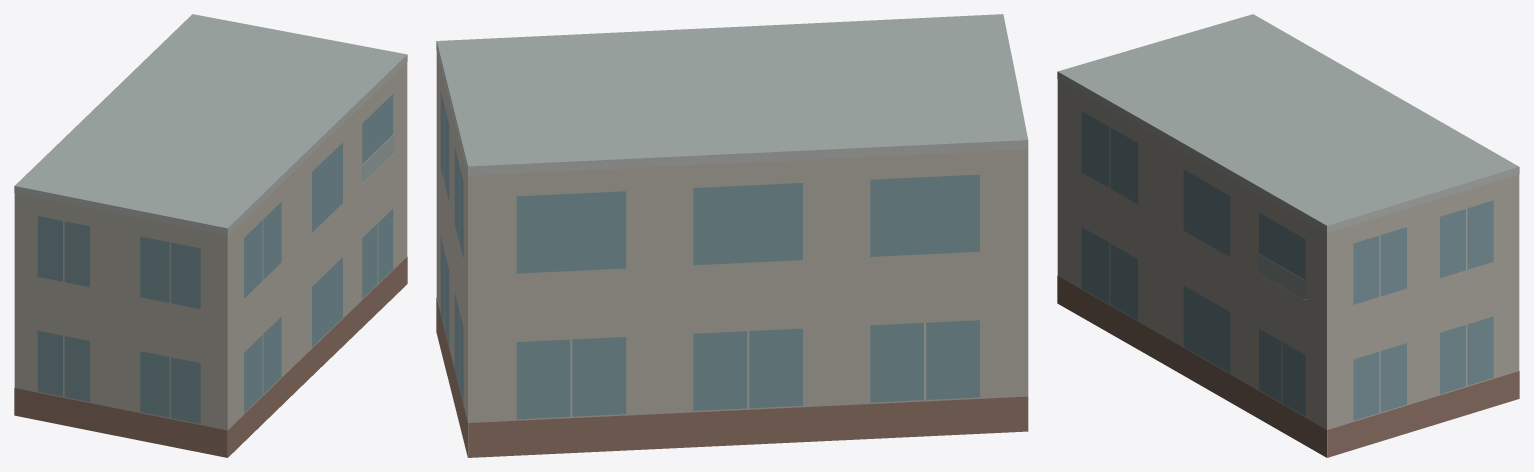
The model's file is survey-upis-32637121.glb.
3 renders of one model, left to right at view 1: azimuth 30°, elevation 25°; view 2: azimuth 150°, elevation 25°; view 3: azimuth 270°, elevation 25°, orthographic. The views are drawn at different scales.
Visible parts, largest first — view 1: survey-upis-32637121.tmp; view 2: survey-upis-32637121.tmp; view 3: survey-upis-32637121.tmp.
Part boxes in pixels (x1,y1,x2,y2): survey-upis-32637121.tmp: (14, 14, 407, 457); survey-upis-32637121.tmp: (436, 14, 1028, 457); survey-upis-32637121.tmp: (1057, 14, 1519, 457).
Size of the model in its own units: 14.89 by 7.6 by 13.72.
